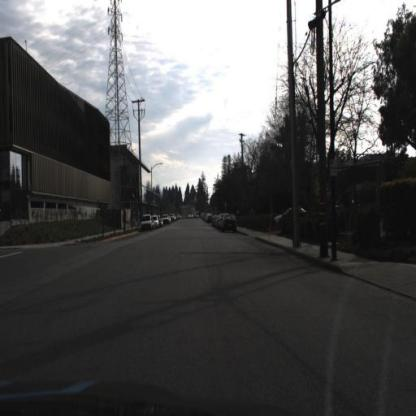car: (272, 203, 314, 232), (224, 214, 240, 235), (139, 215, 155, 234)
